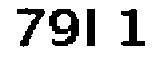1: (116, 7, 150, 52)
7: (14, 6, 46, 49)
9: (47, 7, 81, 49)
I: (84, 7, 103, 54)
